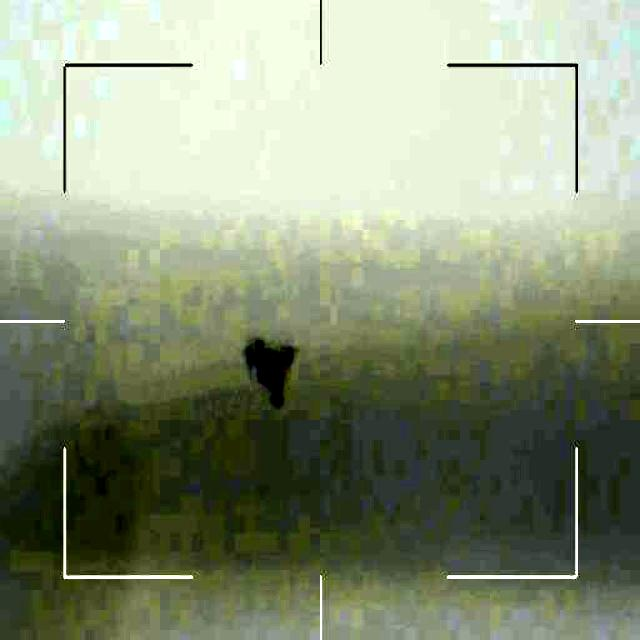bird: (241, 334, 298, 404)
